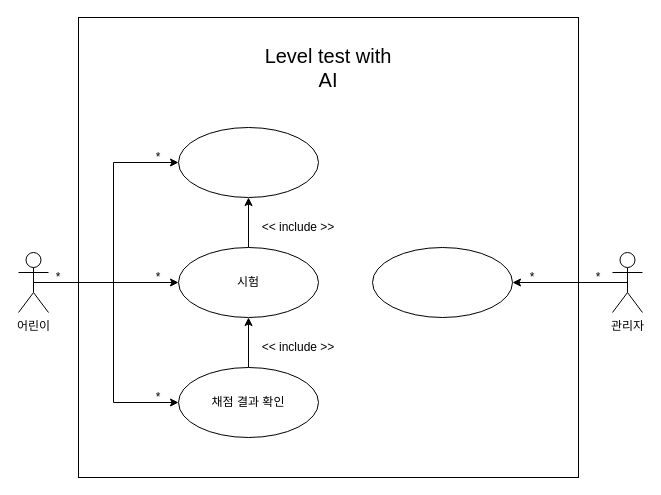
The diagram is 661 pixels wide and 495 high, and some of its shapes have lost their labels. Each missing label, with the box of its shape:
문제 CRUD: (372, 246, 512, 318)
시험 선택: (178, 126, 318, 198)
